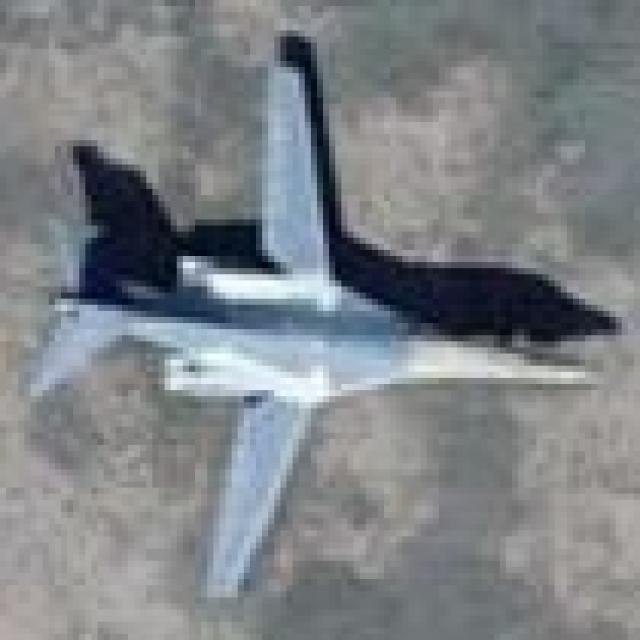B-1_TopDown: (18, 24, 622, 604)
